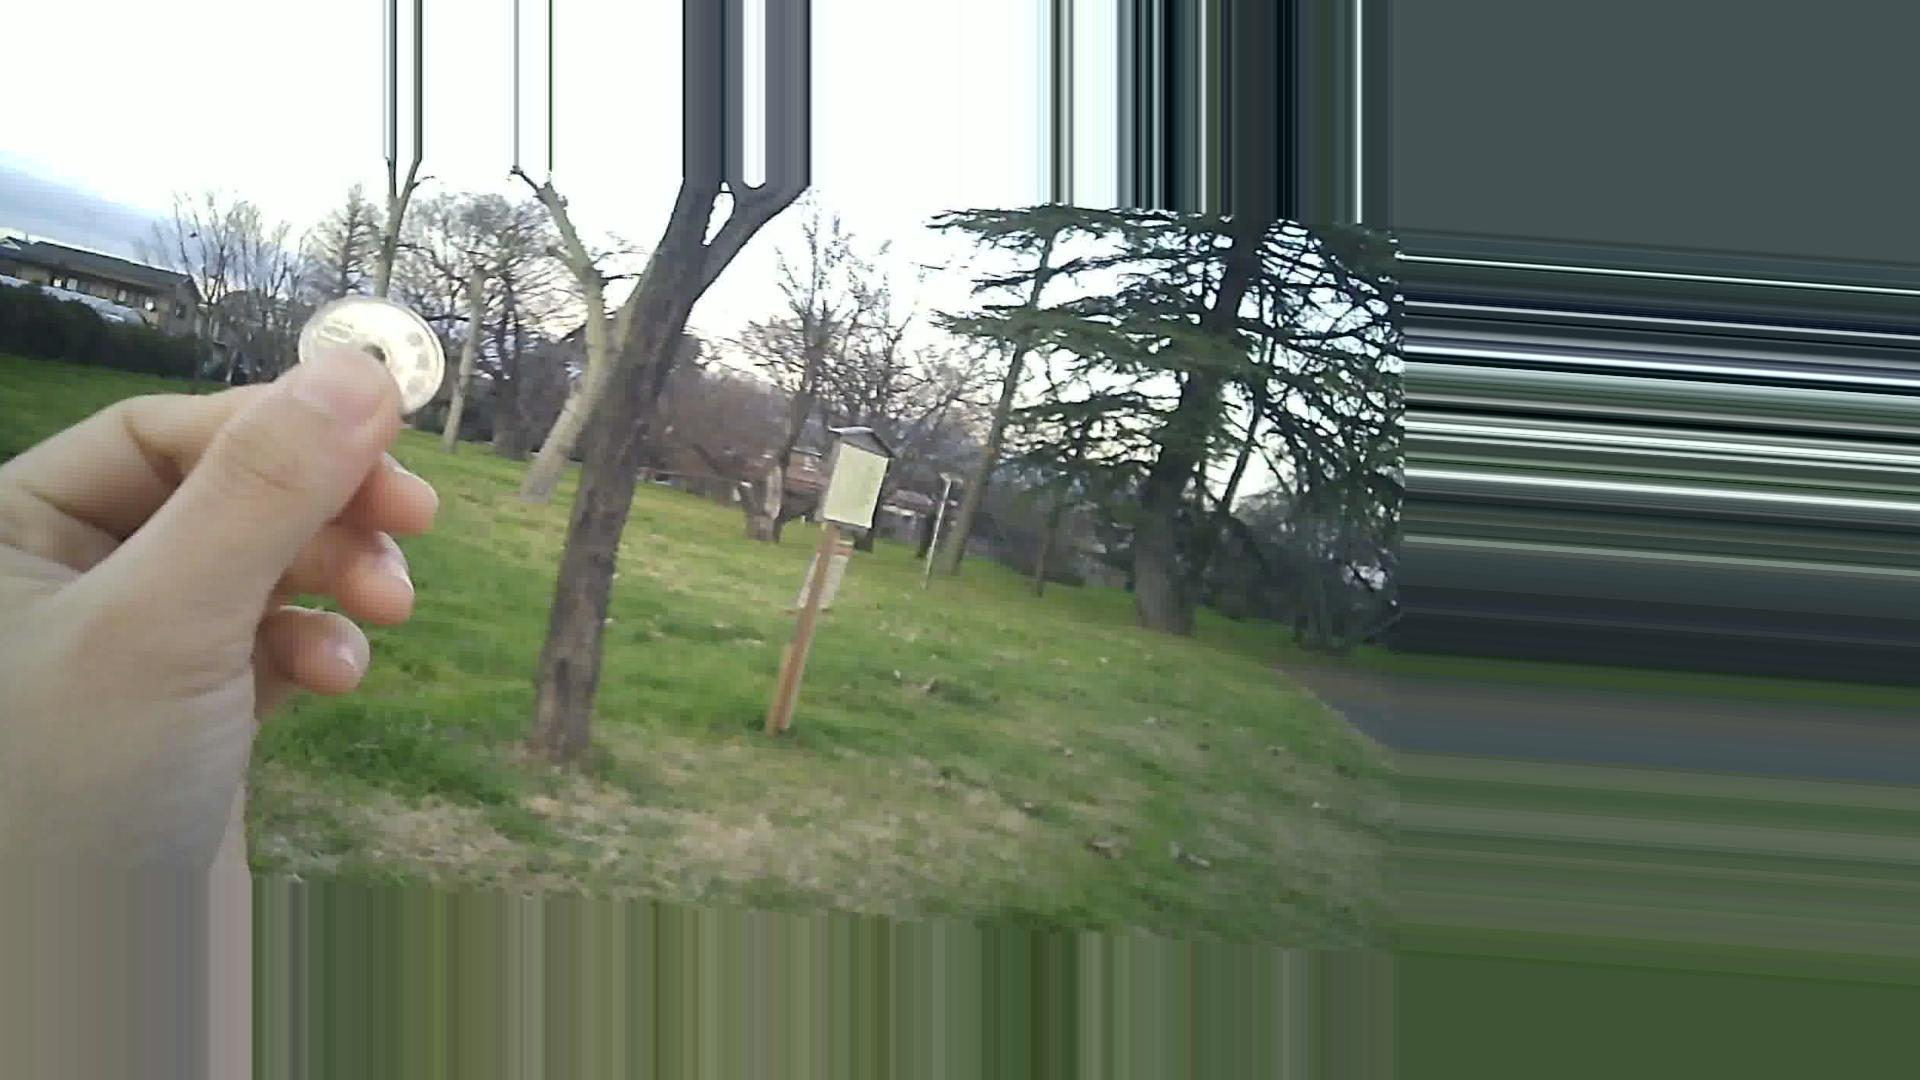50 Yen: (282, 298, 442, 415)
